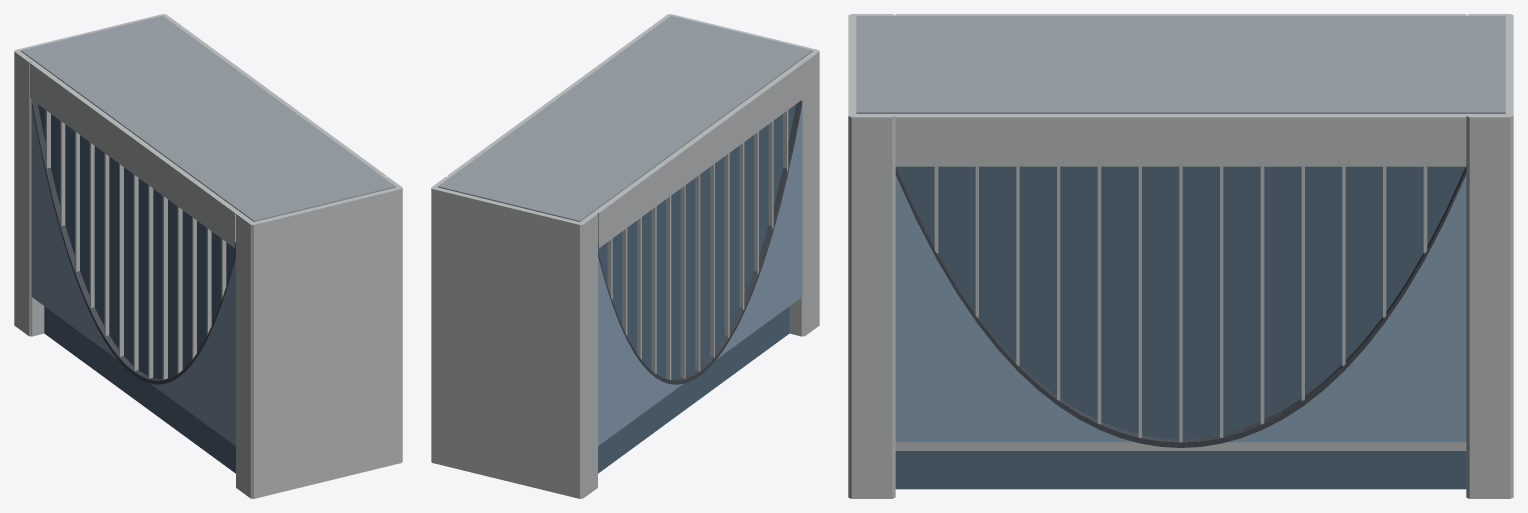
Rendered from msp-marquette-plaza.glb.
3 views of the same model, side by side, from view 1: azimuth 30°, elevation 25°; view 2: azimuth 150°, elevation 25°; view 3: azimuth 270°, elevation 25° (orthographic). The views are drawn at different scales.
Parts seen in each view (by area): view 1: Marquette Plaza; view 2: Marquette Plaza; view 3: Marquette Plaza.
Part boxes in pixels (bbox=[...]): Marquette Plaza: bbox=[14, 14, 402, 498]; Marquette Plaza: bbox=[431, 14, 819, 498]; Marquette Plaza: bbox=[848, 14, 1513, 498].
Size of the model in its own units: 36 by 62.25 by 98.
